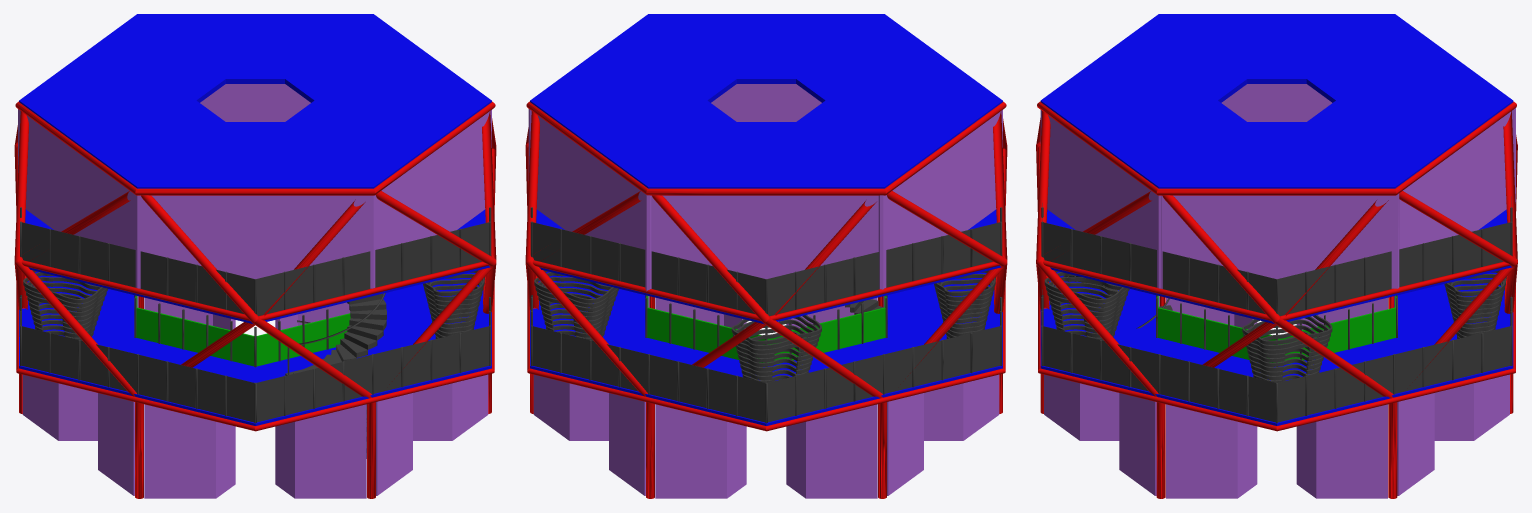
3 renders of one model, left to right at view 1: azimuth 30°, elevation 25°; view 2: azimuth 150°, elevation 25°; view 3: azimuth 270°, elevation 25°, orthographic.
Parts seen in each view (by area): view 1: Mesh_29; view 2: Mesh_29; view 3: Mesh_29.
Boxes of the visible parts, <box> form: Mesh_29: <box>14,14,496,498</box>; Mesh_29: <box>525,14,1007,498</box>; Mesh_29: <box>1036,14,1517,498</box>.
Bounding box in the file's own units: 15.27 × 9.45 × 13.24.
